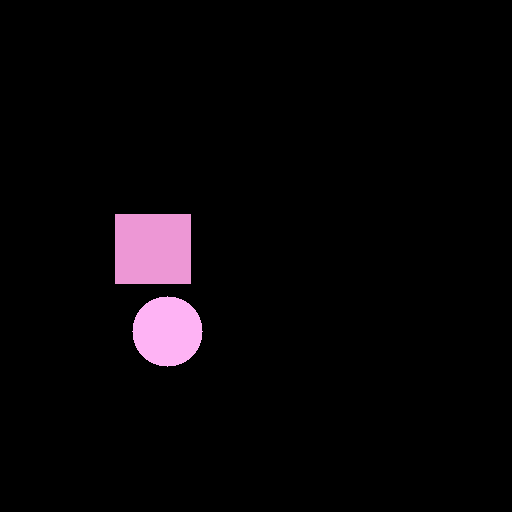circle: (132, 296, 202, 366)
square: (115, 214, 190, 283)
